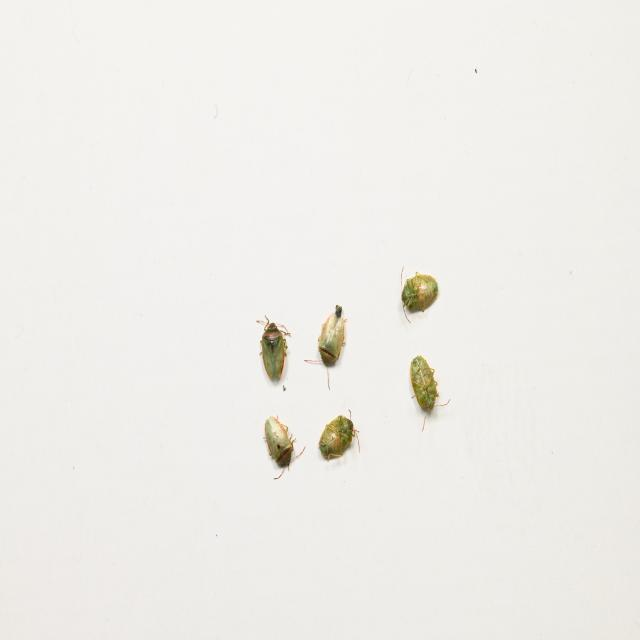stinkbug: (303, 302, 349, 391), (408, 354, 451, 432), (263, 413, 307, 479), (257, 313, 290, 384), (400, 263, 439, 323), (318, 406, 360, 461)
